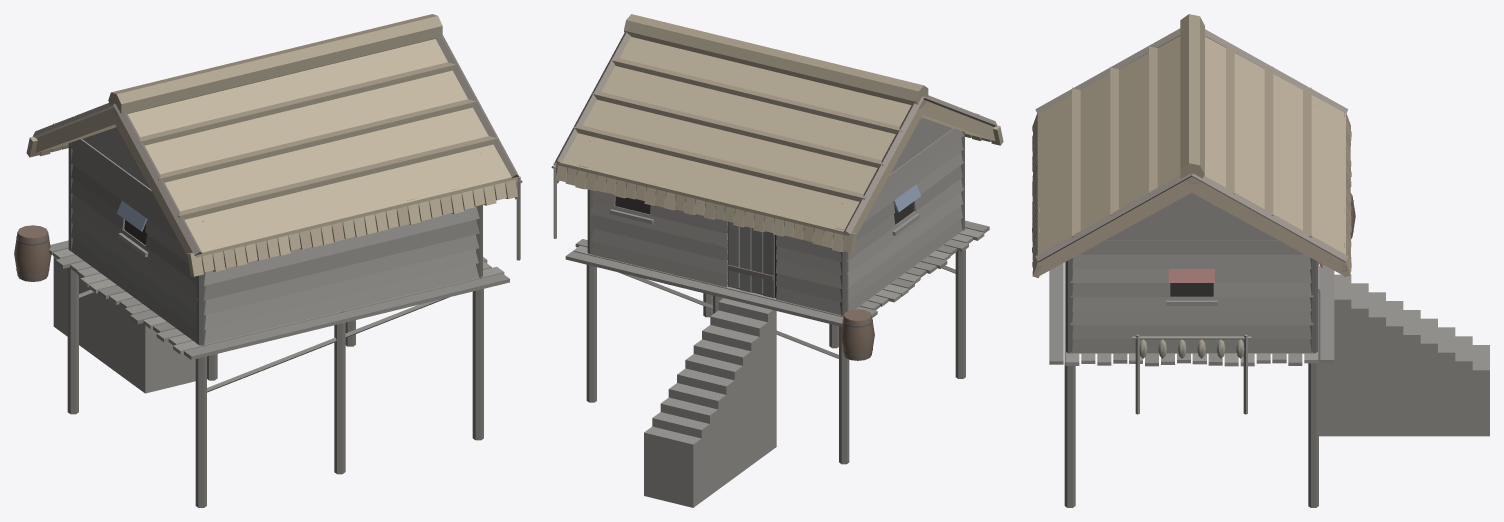
Rendered from house_1_0.gltf.
3 renders of one model, left to right at view 1: azimuth 30°, elevation 25°; view 2: azimuth 150°, elevation 25°; view 3: azimuth 270°, elevation 25°, orthographic. The views are drawn at different scales.
Parts seen in each view (by area): view 1: Body; view 2: Body; view 3: Body.
Part boxes in pixels (box(x1,y1,x2,y2)): Body: box(14, 14, 522, 507); Body: box(551, 14, 1003, 507); Body: box(1032, 14, 1489, 507).
Bounding box in the file's own units: 8.09 × 7.2 × 8.46.
